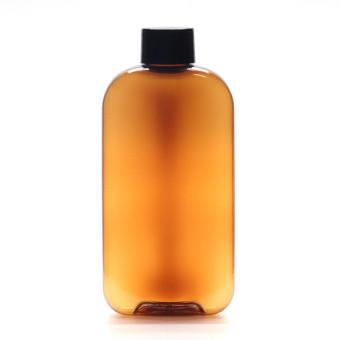bottle: (101, 26, 235, 316)
